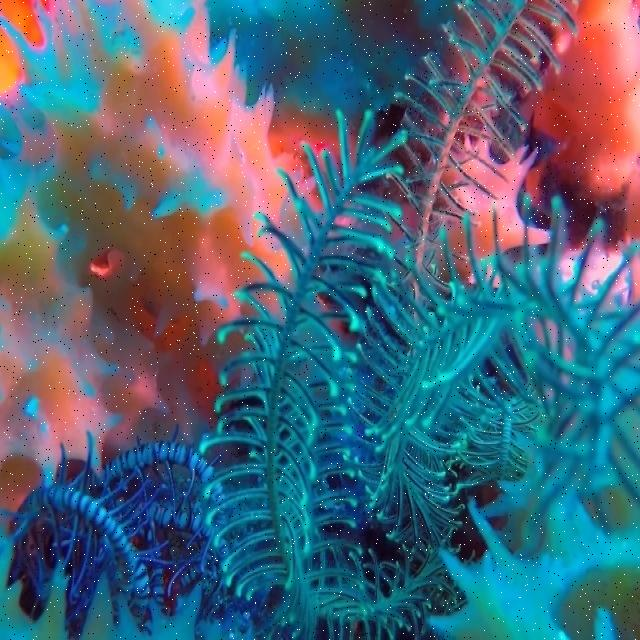reefs: (2, 0, 639, 639), (0, 1, 341, 511)
